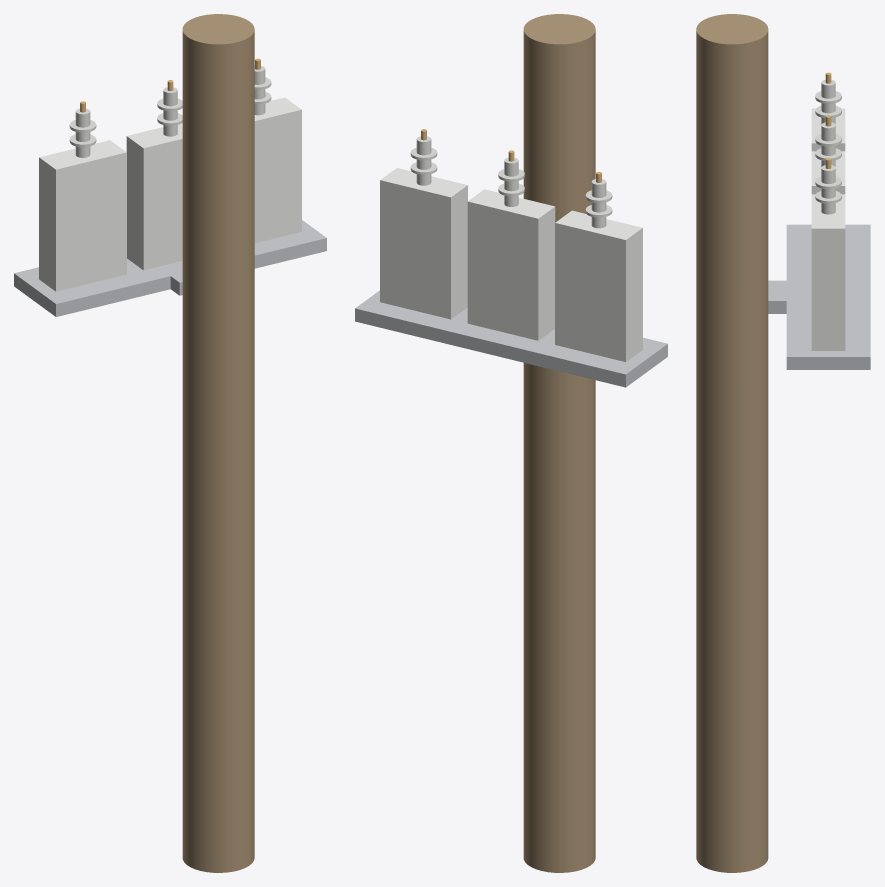
The model's file is capacitor.glb.
3 views of the same model, side by side, from view 1: azimuth 30°, elevation 25°; view 2: azimuth 150°, elevation 25°; view 3: azimuth 270°, elevation 25° (orthographic).
Parts seen in each view (by area): view 1: capacitor; view 2: capacitor; view 3: capacitor.
Part boxes in pixels (x1,y1,x2,y2): capacitor: (14,14,326,872); capacitor: (355,14,667,872); capacitor: (696,14,870,872).
Bounding box in the file's own units: 1.3 × 3.8 × 0.725.
